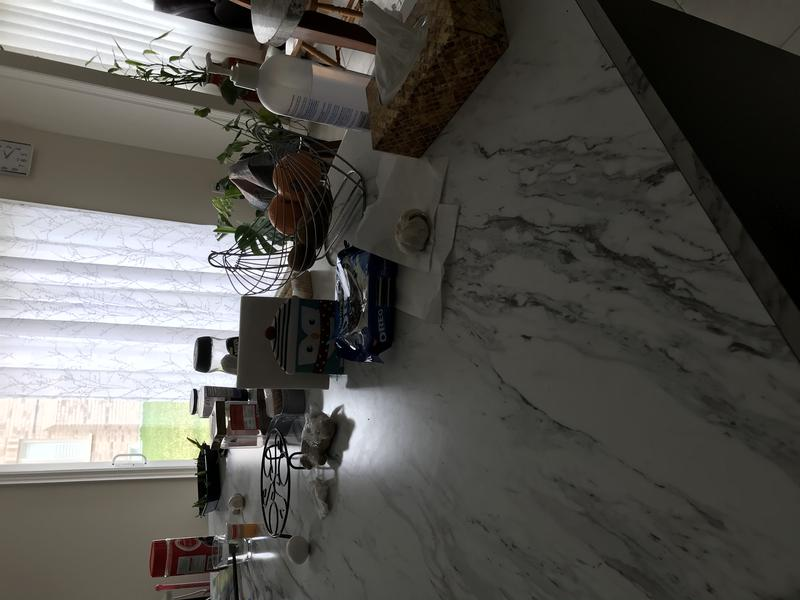garlic: (386, 199, 438, 257)
